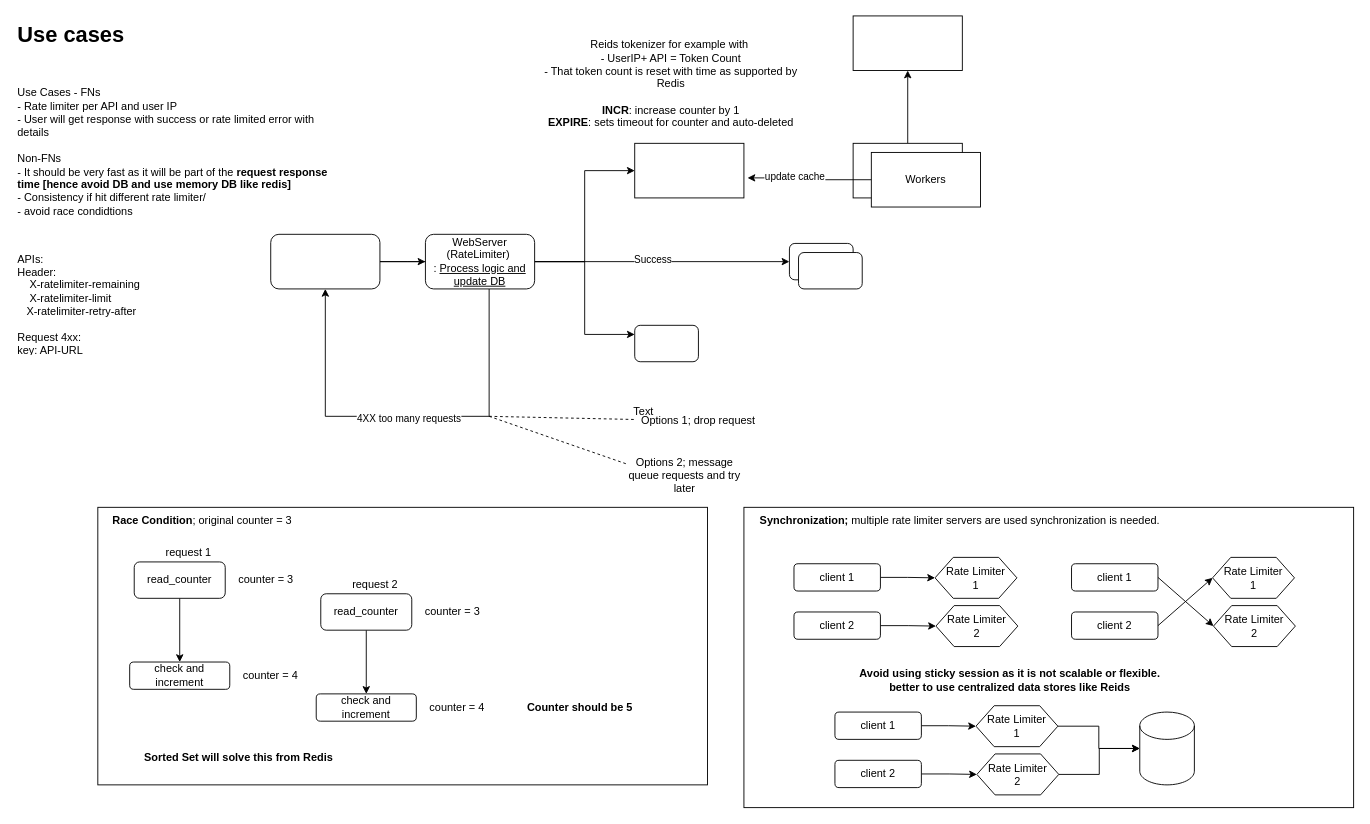
Some shapes in this 1370 by 824 pixel diagram are drawn without their labels. Each missing label, with the centre of its shape:
"APIs" belongs at point 830,270.
"Cache Redis Rules" belongs at point 689,170.
"Client Web/Mobile" belongs at point 325,261.
"Redis" belongs at point 666,343.
"Redis Centralized" belongs at point 1166,748.
"Rules: stored in files/DB" belongs at point 907,43.
